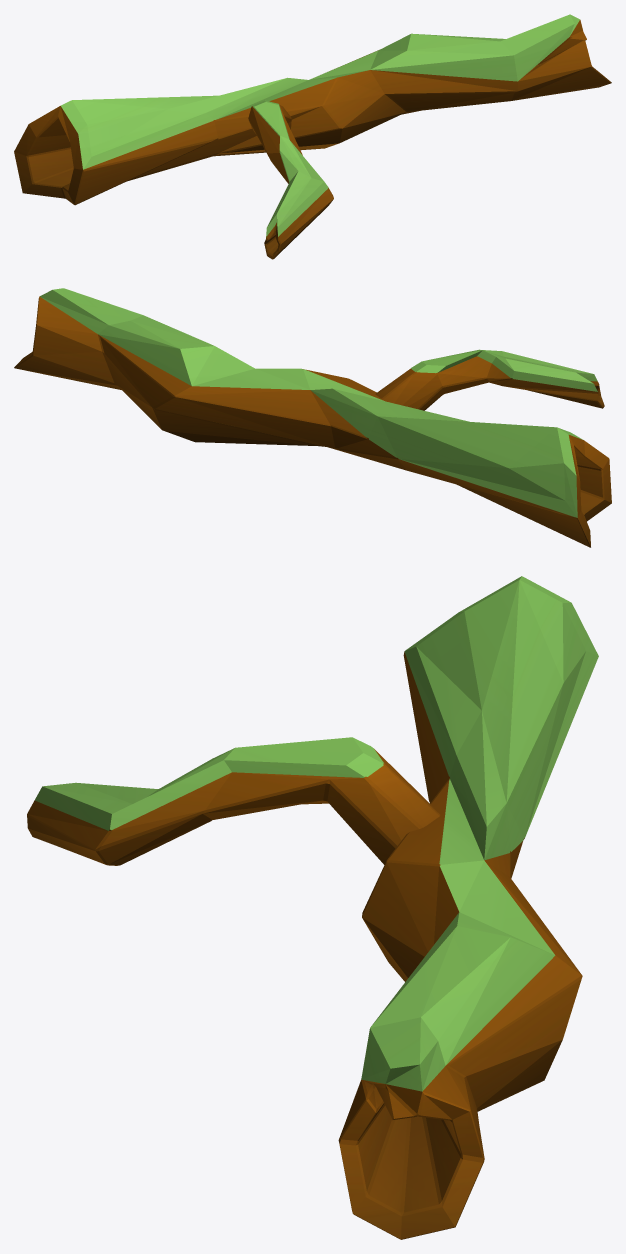
Rendered from log_fork_mossy.glb.
3 renders of one model, top to bottom at view 1: azimuth 30°, elevation 25°; view 2: azimuth 150°, elevation 25°; view 3: azimuth 270°, elevation 25°, orthographic. The views are drawn at different scales.
Parts seen in each view (by area): view 1: Wooden Log_2_5_A; view 2: Wooden Log_2_5_A; view 3: Wooden Log_2_5_A.
Boxes of the visible parts, left/top/right/bottom form: Wooden Log_2_5_A: left=14, top=14, right=611, bottom=259; Wooden Log_2_5_A: left=14, top=288, right=611, bottom=547; Wooden Log_2_5_A: left=27, top=576, right=598, bottom=1239.
Bounding box in the file's own units: 2 × 0.33 × 0.92.
1 material, 1 textured.
